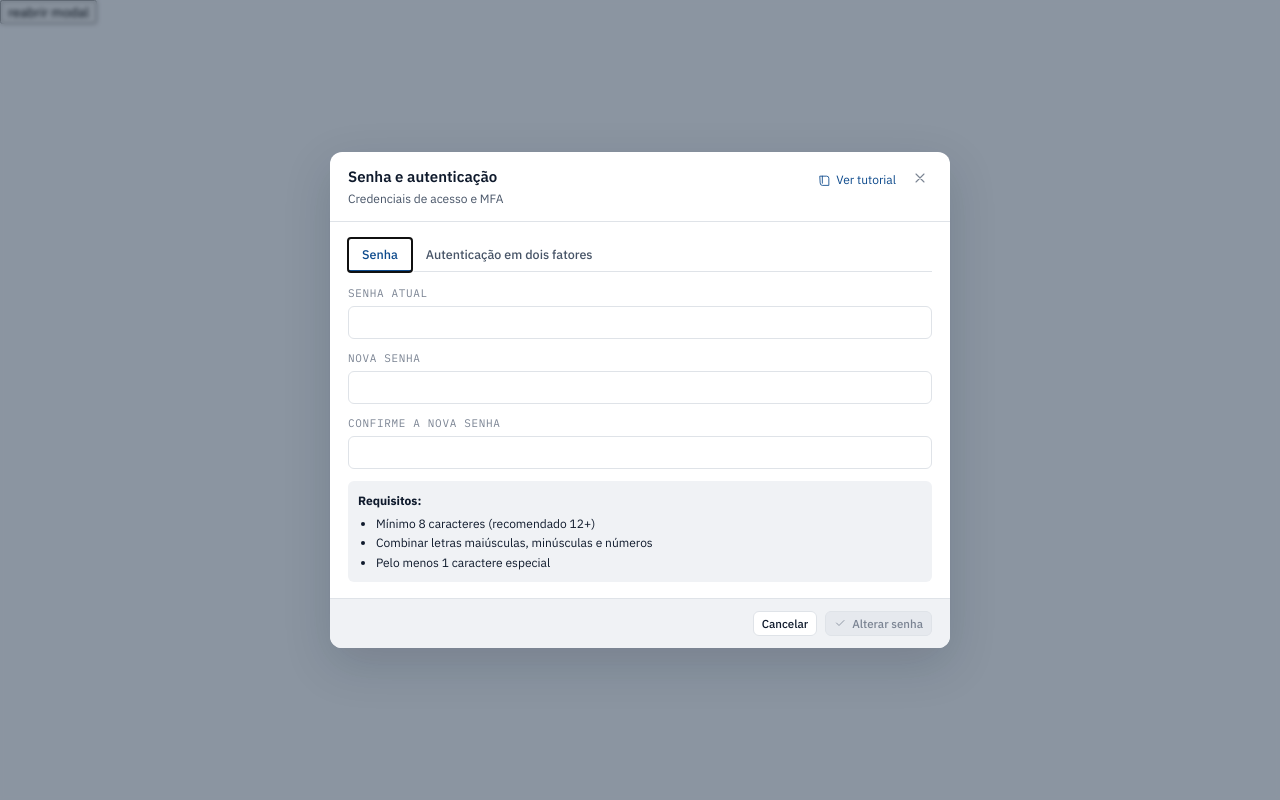
Test case: FormSenha2FA — códigos de recuperação › exibe os códigos devolvidos ao ativar o 2FA
Click the button "Autenticação em dois fatores" at (509, 255), box [412,238,606,272]
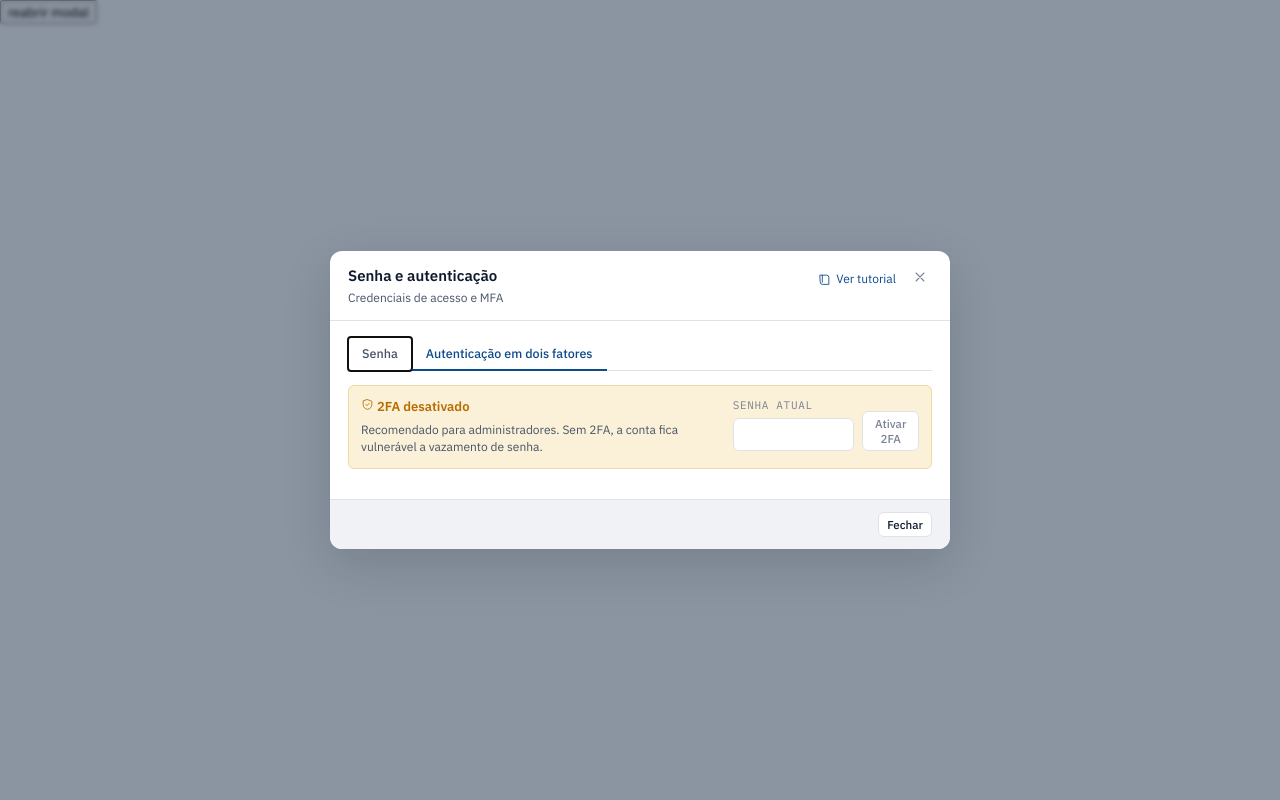
Type "Senha@123" into the password field named "Senha atual para ativar o 2FA" at (794, 435), box [733,418,854,451]
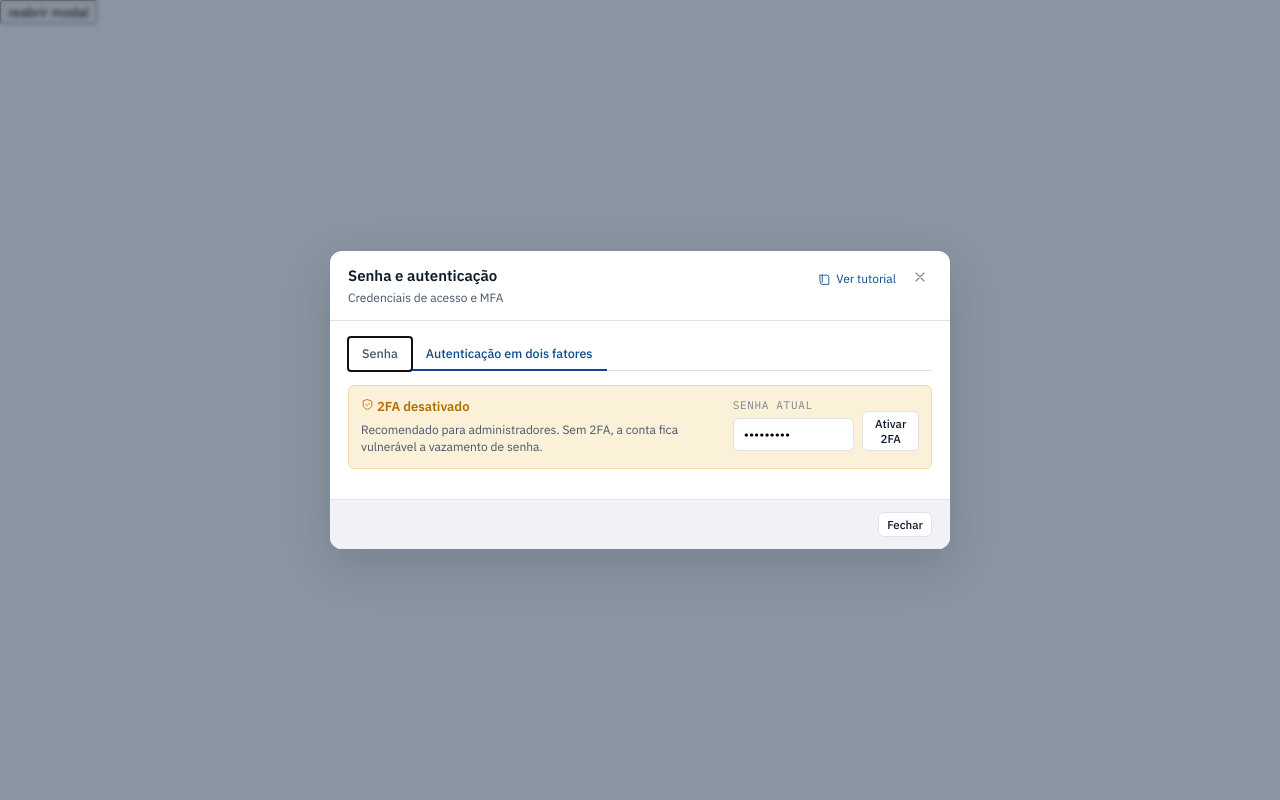
Click the button "Ativar 2FA" at (891, 431), box [862,411,919,451]
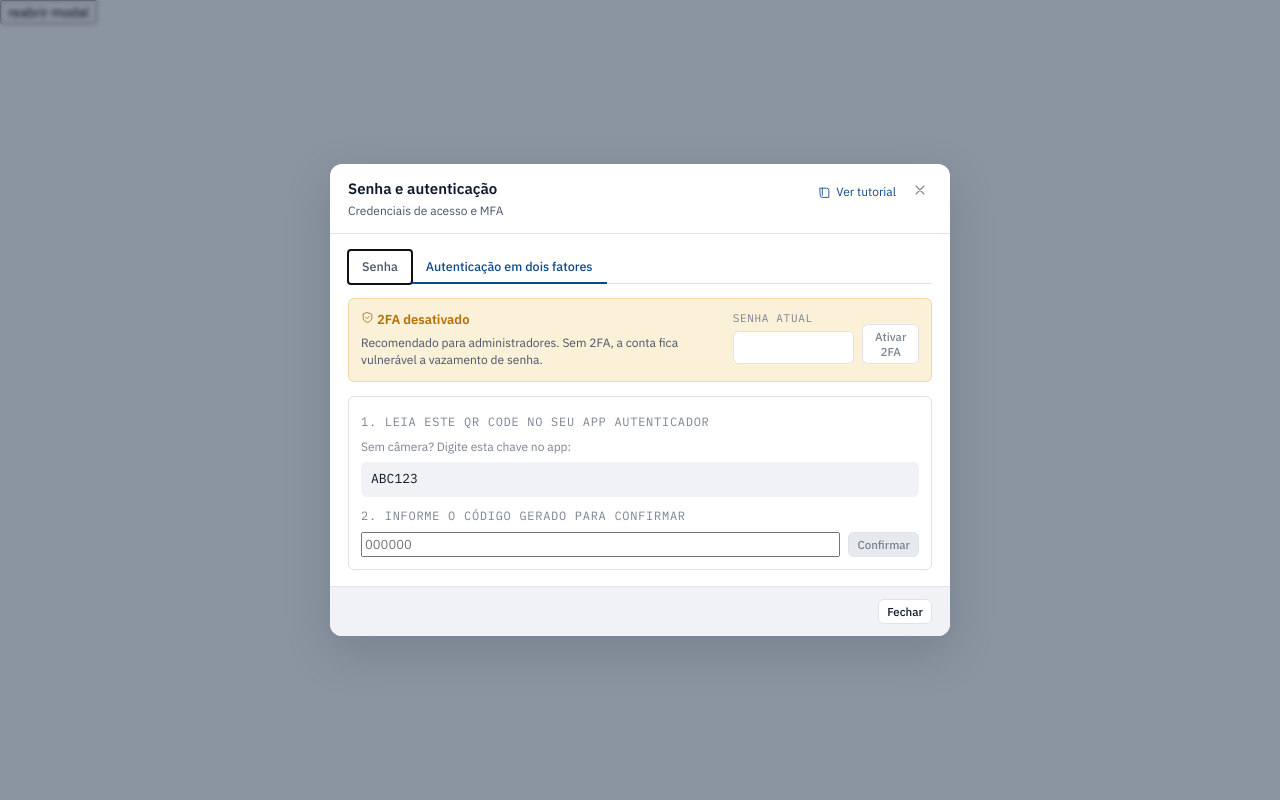
Type "123456" into the field named "Código de verificação" at (601, 544), box [361,532,840,557]
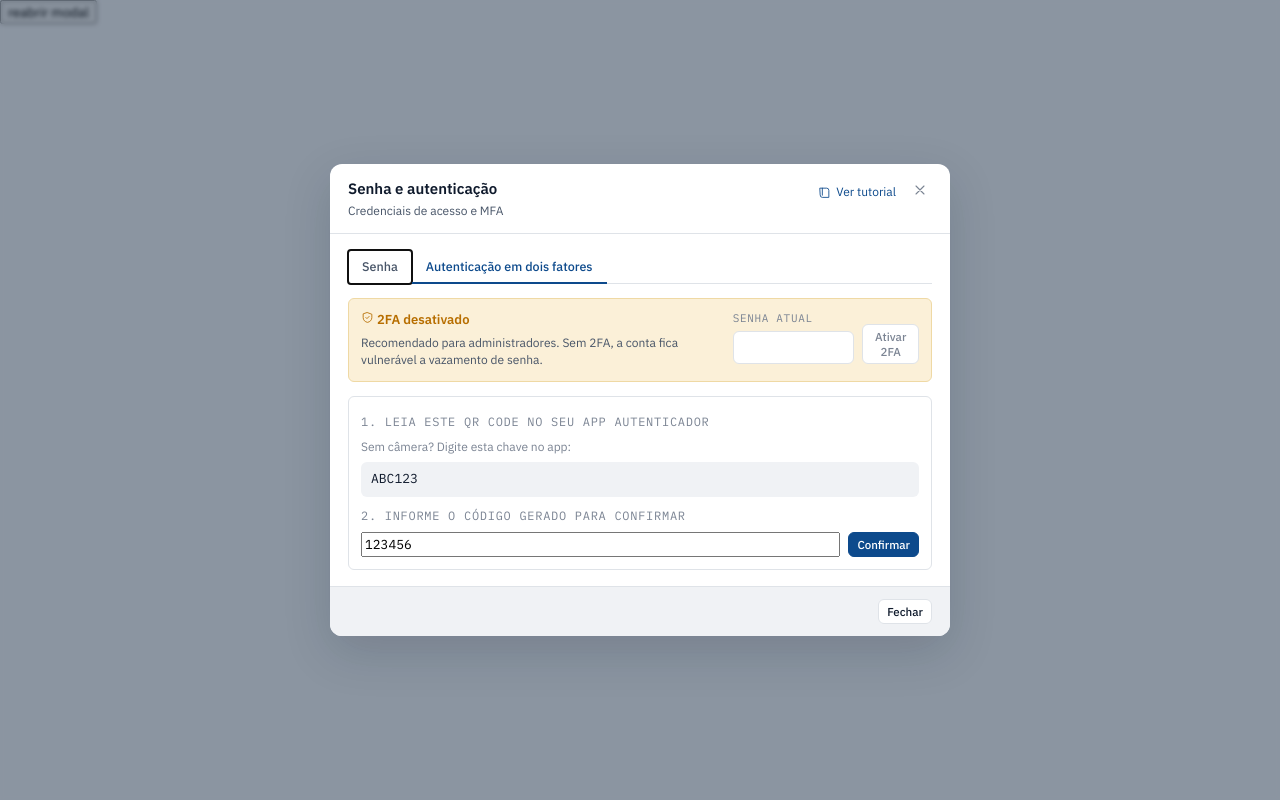
Click the button "Confirmar" at (884, 544), box [848,532,919,557]
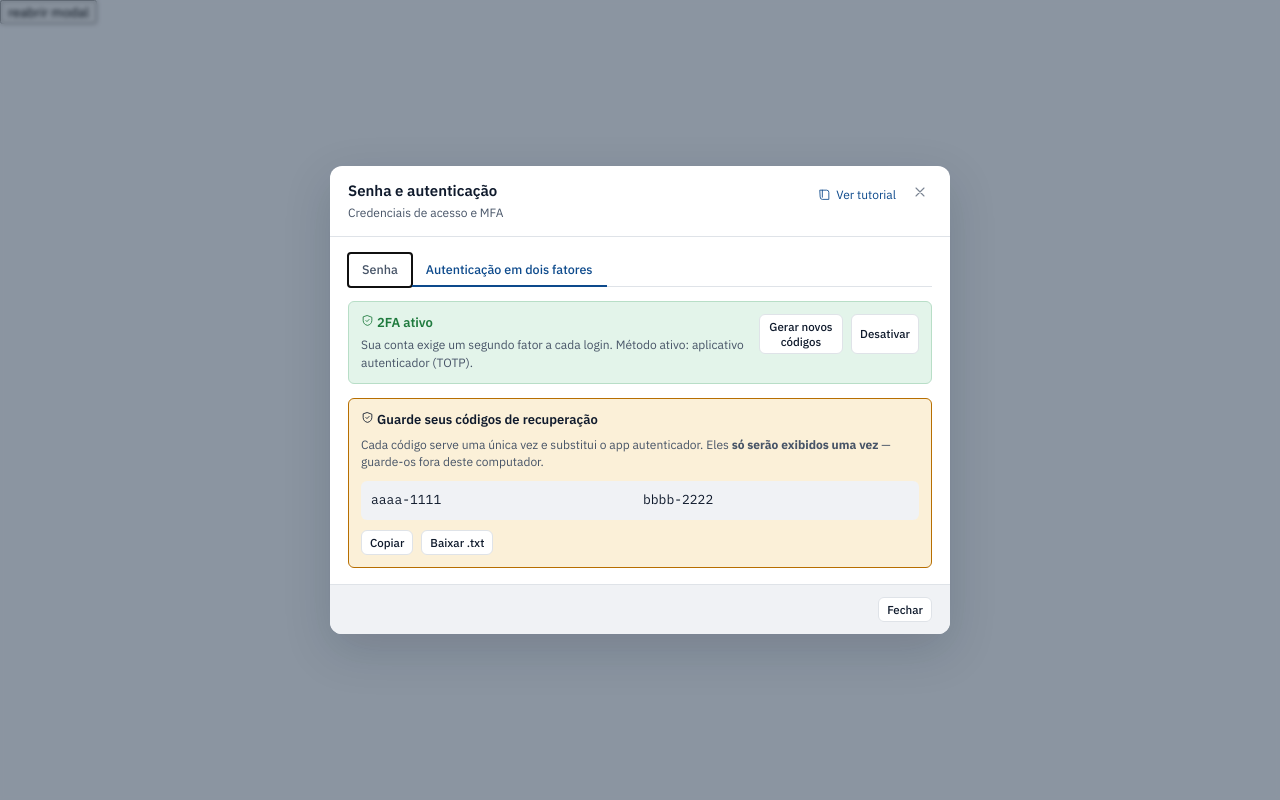
Check: the text "aaaa-1111" is shown, box [371,491,441,508]
Check: the text "só serão exibidos uma vez" is shown, box [732,437,878,452]
